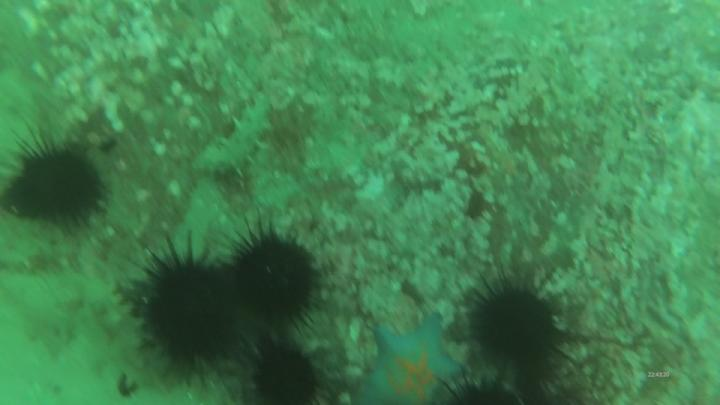echinus: (121, 237, 242, 379), (460, 261, 573, 378), (3, 123, 116, 238), (223, 211, 323, 340), (240, 337, 328, 405), (431, 366, 528, 405)
holothurian: (199, 86, 276, 179)
starfish: (351, 311, 469, 405)
